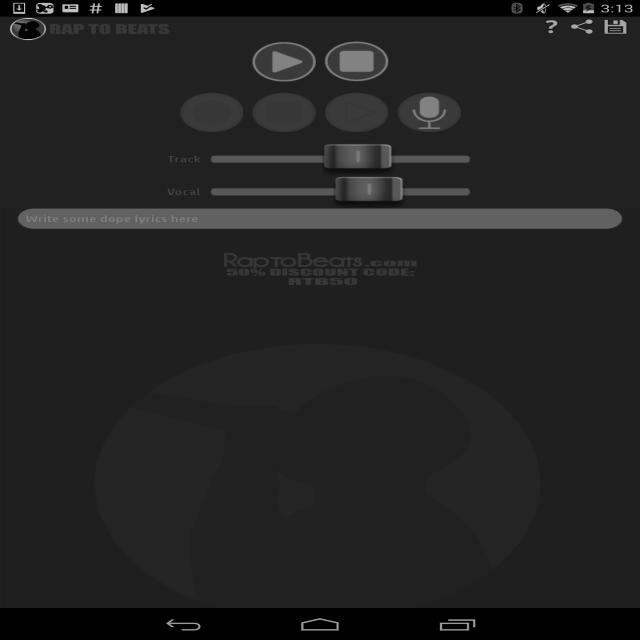Button: (173, 91, 246, 135), (323, 40, 394, 83), (396, 90, 465, 134), (248, 41, 318, 82), (324, 91, 389, 134), (252, 91, 318, 133)
ImageButton: (568, 18, 599, 35), (604, 19, 630, 37), (538, 17, 562, 36)
ImageView: (8, 18, 43, 42)
SeekBar: (208, 143, 475, 173), (208, 178, 475, 204)
TextView: (218, 249, 424, 288), (48, 22, 171, 40)
